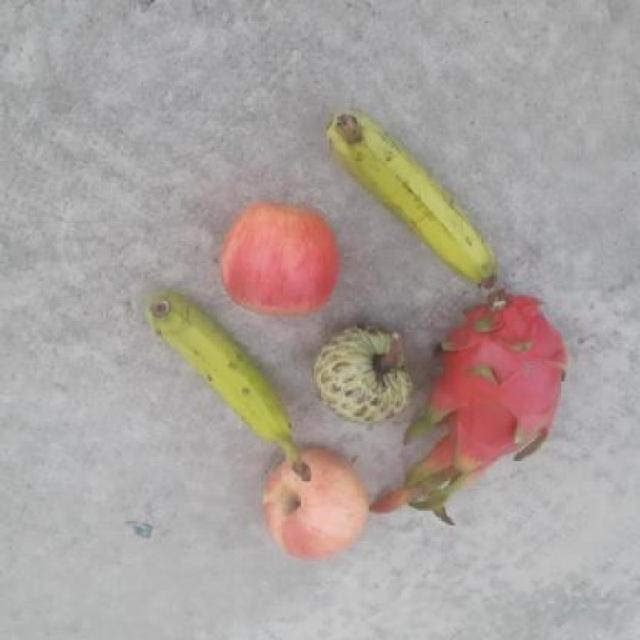apple: (216, 198, 342, 320), (264, 445, 371, 563)
banana: (144, 290, 318, 479), (326, 113, 502, 290)
dragon fruit: (420, 287, 574, 478)
sugar apple: (310, 322, 415, 426)
